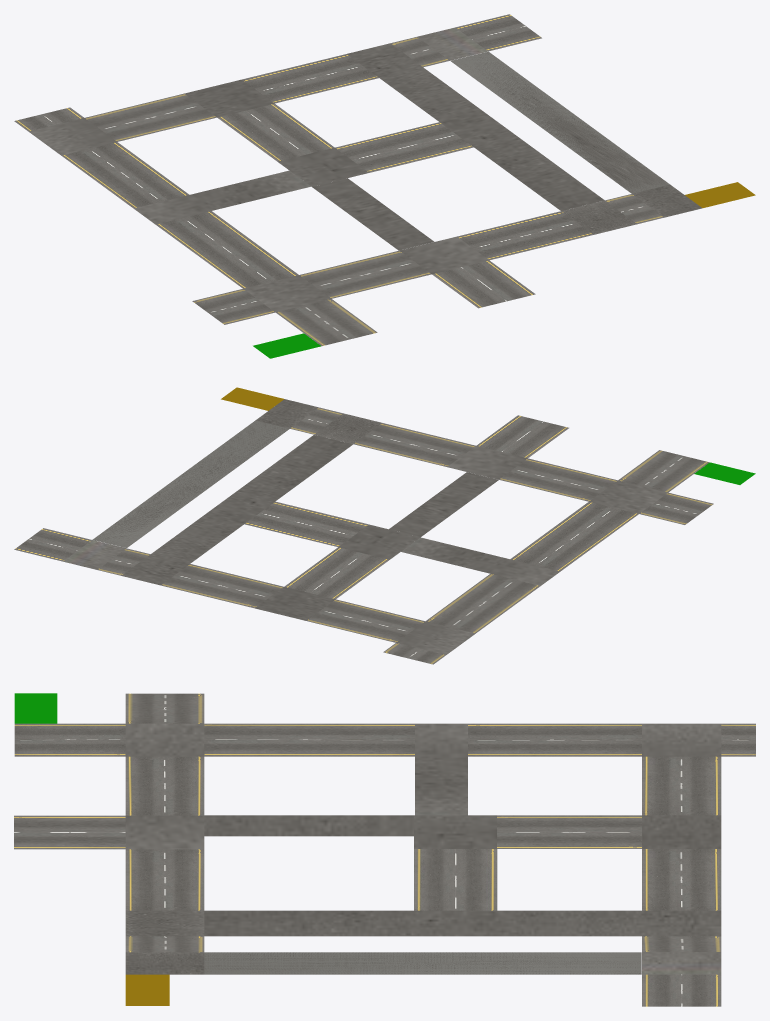
The model's file is road-design.obj.
3 views of the same model, one above another, from view 1: azimuth 30°, elevation 25°; view 2: azimuth 150°, elevation 25°; view 3: azimuth 270°, elevation 25° (orthographic). The views are drawn at different scales.
Visible parts, largest first — view 1: Plane_main-road, Plane.002_Plane.001, Plane.001_Plane; view 2: Plane_main-road, Plane.002_Plane.001, Plane.001_Plane; view 3: Plane_main-road, Plane.002_Plane.001, Plane.001_Plane.
Part boxes in pixels (box(x1,y1,x2,y2)): Plane_main-road: box(14, 14, 702, 346); Plane.002_Plane.001: box(685, 182, 755, 207); Plane.001_Plane: box(253, 333, 320, 358); Plane_main-road: box(14, 399, 713, 664); Plane.002_Plane.001: box(221, 387, 284, 410); Plane.001_Plane: box(694, 462, 755, 484); Plane_main-road: box(14, 693, 755, 1006); Plane.002_Plane.001: box(125, 974, 169, 1005); Plane.001_Plane: box(14, 693, 57, 723).
Bounding box in the file's own units: 20.83 × 0 × 20.86.
